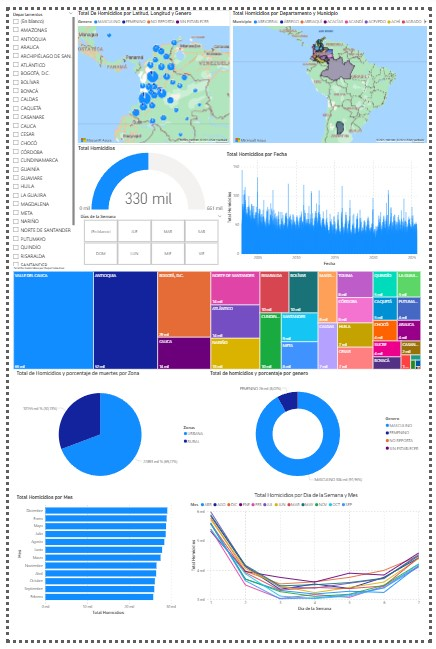

What the dashboard file says about the page in this screenshot:
{"tool":"powerbi","page":{"name":"Dashboard Homicidios","canvas":[1400,2100],"ordinal":0},"visuals":[{"type":"azureMap","fields":{"Y":["Dim_Departamentos.Latitud"],"X":["Dim_Departamentos.Longitud"],"Size":["Sum(FAC_Homicidios.Cantidad)"],"Series":["Dim_Sexo.NomSexo"]},"box":[224,0,518,450],"z":0},{"type":"actionButton","box":[0,0,100,40],"z":1000},{"type":"slicer","fields":{"Values":["Dim_Departamentos.NomDpto"]},"box":[0,0,224.3,855.7],"z":2000},{"type":"azureMap","fields":{"Category":["Dim_Departamentos.NomDpto"],"Series":["Dim_Municipios.NomMpio"]},"box":[742,0,658,450],"z":3000},{"type":"treemap","fields":{"Group":["Dim_Departamentos.NomDpto"],"Values":["Sum(FAC_Homicidios.Cantidad)"]},"box":[11.4,855.7,1367.1,347.1],"z":4000},{"type":"columnChart","fields":{"Category":["FAC_Homicidios.FechaHecho"],"Y":["Sum(FAC_Homicidios.Cantidad)"]},"box":[720,470,658.6,385.7],"z":5000},{"type":"slicer","fields":{"Values":["Dim_DiaSemana.NomCortoDiaSemana"]},"box":[224.3,675.7,495.7,180],"z":6000},{"type":"gauge","fields":{"Y":["Sum(FAC_Homicidios.Cantidad)"]},"box":[224.3,450,495.7,225.7],"z":7000},{"type":"pieChart","title":"Total de Homicidios y porcentaje de muertes por Zona","fields":{"Category":["Dim_Zonas.NomZona"],"Y":["Sum(FAC_Homicidios.Cantidad)"]},"box":[22,1202,642,406],"z":8000},{"type":"donutChart","title":"Total de homicidios y porcentaje por genero","fields":{"Category":["Dim_Sexo.NomSexo"],"Y":["Sum(FAC_Homicidios.Cantidad)"]},"box":[664,1202,714,406],"z":9000},{"type":"clusteredBarChart","fields":{"Category":["Dim_Meses.NomMes"],"Y":["Sum(FAC_Homicidios.Cantidad)"]},"box":[21.4,1617.1,541.4,404.3],"z":10000},{"type":"lineChart","fields":{"Category":["Dim_DiaSemana.IdDiaSemana"],"Series":["Dim_Meses.NomCortoMes"],"Y":["Sum(FAC_Homicidios.Cantidad)"]},"box":[598.6,1607.1,780,402.9],"z":11000}]}

Visuals, with their boxes in screenshot pixels (x1, y1, x2, y2), scaled from the page's 1400x2100 canvas onto the 436x649 screenshot:
azureMap - Dim_Departamentos.Latitud x Dim_Departamentos.Longitud: x1=70, y1=0, x2=231, y2=139
actionButton: x1=0, y1=0, x2=31, y2=12
slicer - Dim_Departamentos.NomDpto: x1=0, y1=0, x2=70, y2=264
azureMap - Dim_Departamentos.NomDpto x Dim_Municipios.NomMpio: x1=231, y1=0, x2=435, y2=139
treemap - Dim_Departamentos.NomDpto x Sum(FAC_Homicidios.Cantidad): x1=4, y1=264, x2=429, y2=372
columnChart - FAC_Homicidios.FechaHecho x Sum(FAC_Homicidios.Cantidad): x1=224, y1=145, x2=429, y2=264
slicer - Dim_DiaSemana.NomCortoDiaSemana: x1=70, y1=209, x2=224, y2=264
gauge - Sum(FAC_Homicidios.Cantidad): x1=70, y1=139, x2=224, y2=209
"Total de Homicidios y porcentaje de muertes por Zona" pieChart: x1=7, y1=371, x2=207, y2=497
"Total de homicidios y porcentaje por genero" donutChart: x1=207, y1=371, x2=429, y2=497
clusteredBarChart - Dim_Meses.NomMes x Sum(FAC_Homicidios.Cantidad): x1=7, y1=500, x2=175, y2=625
lineChart - Dim_DiaSemana.IdDiaSemana x Dim_Meses.NomCortoMes: x1=186, y1=497, x2=429, y2=621
